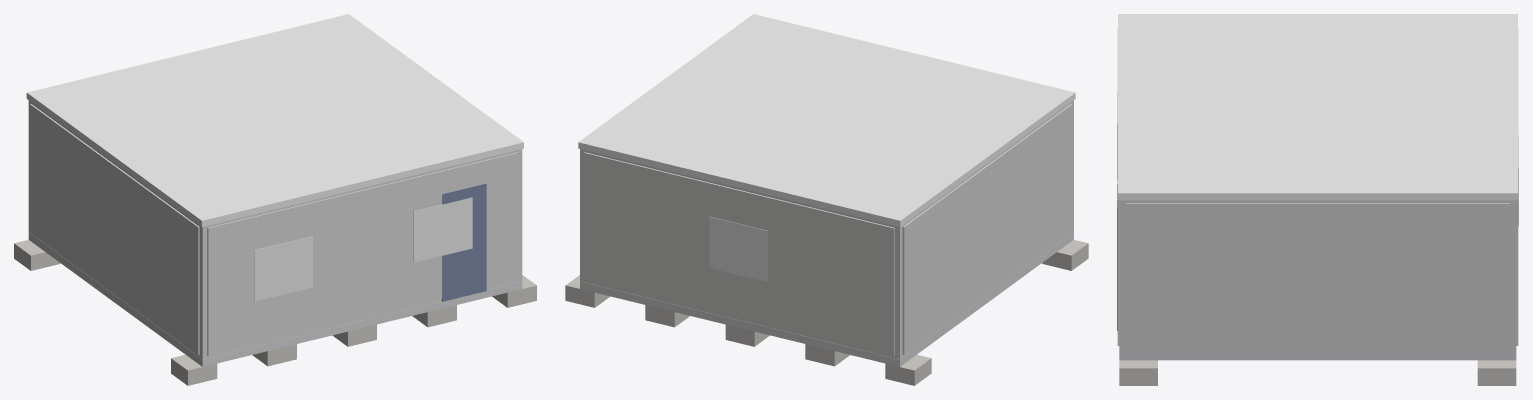
Rendered from Studio-20-Base-AngelWhite-LOD3.glb.
The picture shows the model from 3 angles, left to right: view 1: azimuth 30°, elevation 25°; view 2: azimuth 150°, elevation 25°; view 3: azimuth 270°, elevation 25°; orthographic projection. The views are drawn at different scales.
Parts seen in each view (by area): view 1: RoofMain, ExteriorPanelsStandard, WindowsStandard, FoundationBlocks, ExteriorShell, BaseFrame, EntryDoor; view 2: ExteriorPanelsStandard, RoofMain, FoundationBlocks, BaseFrame, ExteriorShell, WindowsStandard; view 3: RoofMain, ExteriorPanelsStandard, ExteriorShell, BaseFrame, FoundationBlocks.
Boxes of the visible parts, x1,y1,x2,y2 form: RoofMain: (26, 14, 523, 226); ExteriorPanelsStandard: (30, 104, 518, 355); WindowsStandard: (254, 197, 472, 301); FoundationBlocks: (14, 240, 536, 385); ExteriorShell: (28, 100, 522, 359); BaseFrame: (28, 232, 522, 366); EntryDoor: (441, 183, 486, 301); ExteriorPanelsStandard: (584, 104, 1072, 355); RoofMain: (578, 14, 1075, 226); FoundationBlocks: (565, 240, 1088, 385); BaseFrame: (580, 232, 1073, 366); ExteriorShell: (580, 100, 1073, 359); WindowsStandard: (709, 216, 768, 281); RoofMain: (1118, 14, 1517, 200); ExteriorPanelsStandard: (1117, 28, 1518, 349); ExteriorShell: (1119, 200, 1516, 351); BaseFrame: (1119, 351, 1516, 360); FoundationBlocks: (1119, 360, 1516, 385).
Bounding box in the file's own units: 7.14 × 3.17 × 6.24.
